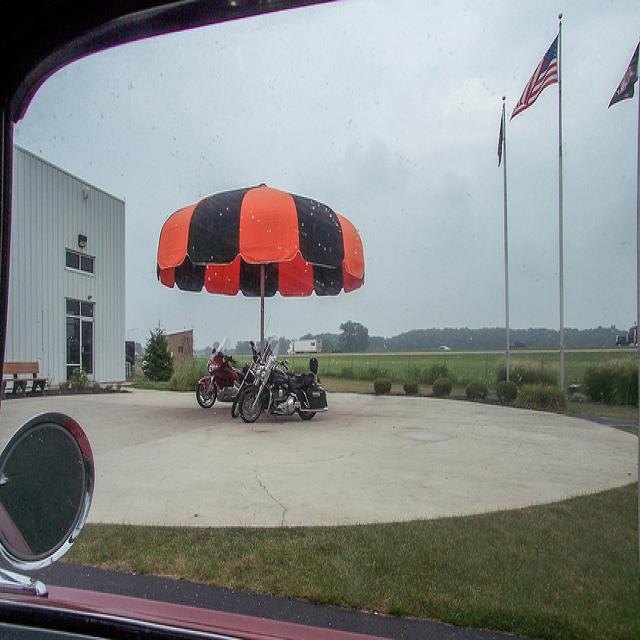motor: (241, 359, 330, 423), (196, 347, 252, 407)
